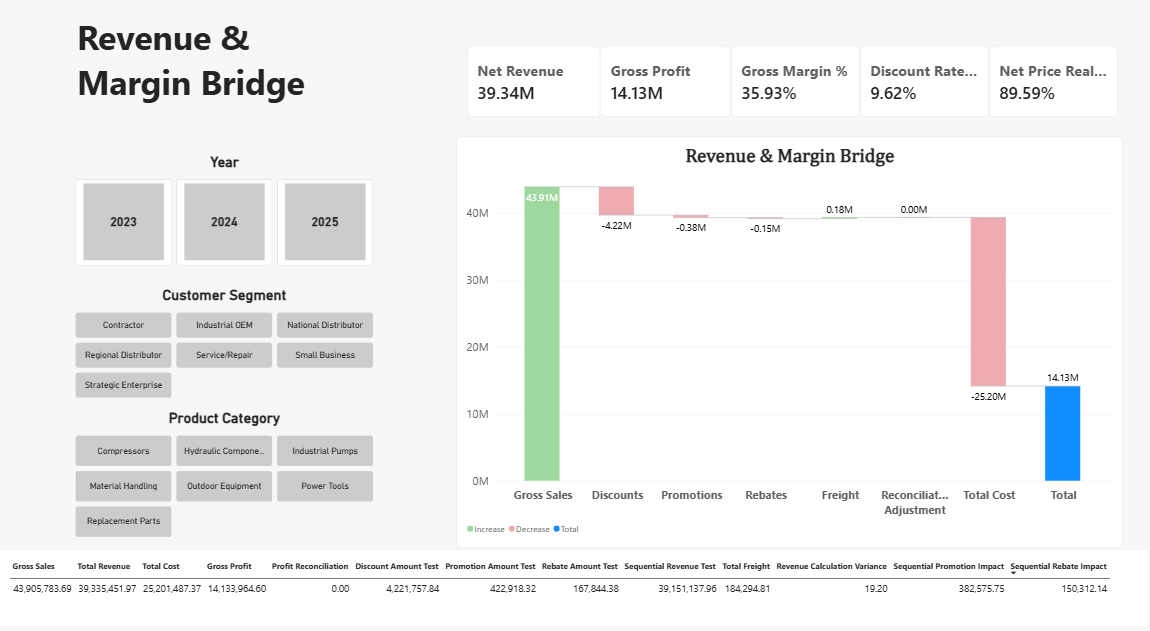

Layout of this report page (visuals, bound fields, positions):
{"tool":"powerbi","page":{"name":"Revenue & Margin Bridge","canvas":[1920,1080],"ordinal":4},"visuals":[{"type":"tableEx","fields":{"Values":["cost_history.Gross Sales","orders.Total Revenue","cost_history.Total Cost","orders.Gross Profit","orders.Profit Reconciliation","orders.Discount Amount Test","orders.Promotion Amount Test","orders.Rebate Amount Test","orders.Sequential Revenue Test","orders.Total Freight","orders.Revenue Calculation Variance","Waterfall Steps.Sequential Promotion Impact"]},"box":[0,915,1920,130],"z":0},{"type":"waterfallChart","title":"Revenue & Margin Bridge","fields":{"Category":["Waterfall Steps.Step"],"Y":["Waterfall Steps.Waterfall Value"]},"box":[763.3,226.7,1110,685],"z":1},{"type":"advancedSlicerVisual","title":"Year","fields":{"Values":["orders.Order Year"]},"box":[128.3,255,496.7,188.3],"z":2},{"type":"cardVisual","title":"Net Re","fields":{"Data":["orders.Total Revenue"]},"box":[780,77.5,222.5,117.5],"z":3},{"type":"cardVisual","fields":{"Data":["orders.Gross Margin %"]},"box":[1220,77.5,215,117.5],"z":5},{"type":"cardVisual","fields":{"Data":["orders.Gross Profit"]},"box":[1002.5,77.5,217.5,117.5],"z":6},{"type":"advancedSlicerVisual","title":"Customer Segment","fields":{"Values":["customers.customer_segment"]},"box":[128.3,476.7,496.7,188.3],"z":7},{"type":"advancedSlicerVisual","title":"Product Category","fields":{"Values":["products.product_category"]},"box":[128.3,681.7,496.7,213.3],"z":8},{"type":"textbox","box":[130,23.3,497,150],"z":9},{"type":"cardVisual","fields":{"Data":["Waterfall Steps.Discount Rate %"]},"box":[1435,77.5,215,117.5],"z":10},{"type":"cardVisual","fields":{"Data":["orders.Price Realization %"]},"box":[1650,77.5,215,117.5],"z":11}]}

Visuals, with their boxes in screenshot pixels (x1, y1, x2, y2), scaled from the page's 1920x1080 canvas onto the 1150x631 screenshot:
tableEx - cost_history.Gross Sales x orders.Total Revenue: region(0, 535, 1149, 611)
"Revenue & Margin Bridge" waterfallChart: region(457, 132, 1122, 533)
"Year" advancedSlicerVisual: region(77, 149, 374, 259)
"Net Re" cardVisual: region(467, 45, 600, 114)
cardVisual - orders.Gross Margin %: region(731, 45, 860, 114)
cardVisual - orders.Gross Profit: region(600, 45, 731, 114)
"Customer Segment" advancedSlicerVisual: region(77, 279, 374, 389)
"Product Category" advancedSlicerVisual: region(77, 398, 374, 523)
textbox: region(78, 14, 376, 101)
cardVisual - Waterfall Steps.Discount Rate %: region(860, 45, 988, 114)
cardVisual - orders.Price Realization %: region(988, 45, 1117, 114)
